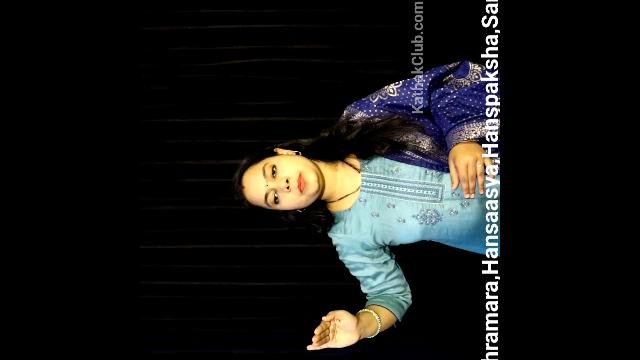Hamsapaksha: (293, 281, 380, 360)
